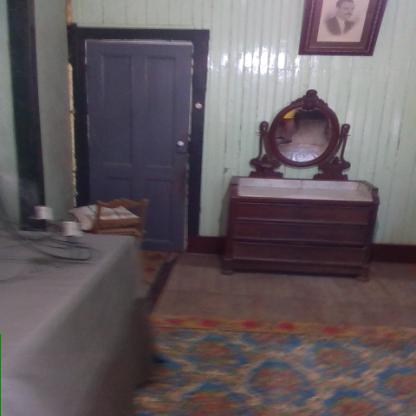door: (82, 39, 188, 250)
hinged: (85, 144, 90, 160), (86, 101, 90, 116), (83, 63, 87, 72)
knob: (175, 141, 185, 147)
